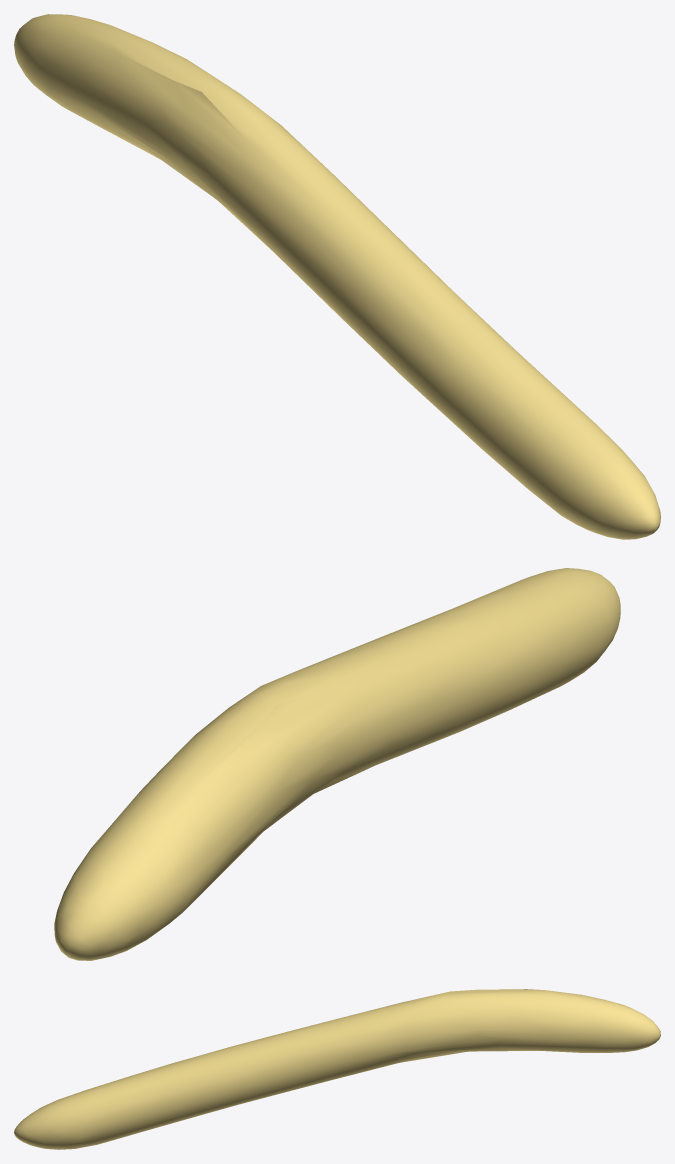
The model's file is fma62064-l_mm2968.glb.
3 renders of one model, top to bottom at view 1: azimuth 30°, elevation 25°; view 2: azimuth 150°, elevation 25°; view 3: azimuth 270°, elevation 25°, orthographic. The views are drawn at different scales.
Parts seen in each view (by area): view 1: FMA62064-L_MM2968; view 2: FMA62064-L_MM2968; view 3: FMA62064-L_MM2968.
Part boxes in pixels (x1,y1,x2,y2): FMA62064-L_MM2968: (14, 14, 660, 539); FMA62064-L_MM2968: (54, 568, 620, 960); FMA62064-L_MM2968: (14, 989, 660, 1149).
Bounding box in the file's own units: 0.00385 × 0.00517 × 0.0226.
